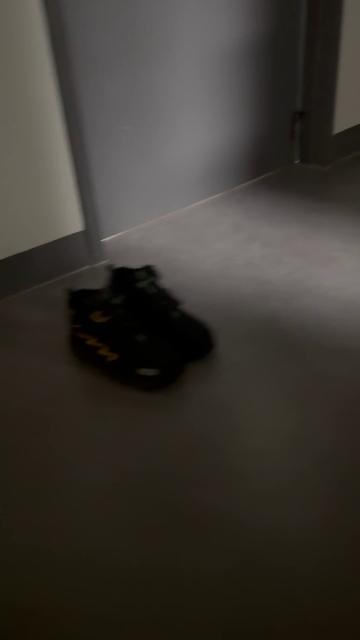shoe_worn: (62, 284, 184, 394), (101, 259, 217, 363)
